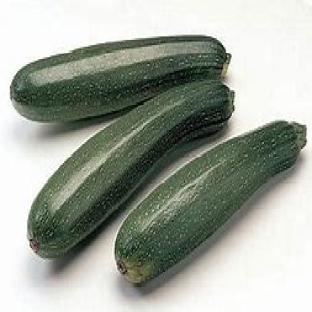Zucchini: (29, 80, 233, 258), (115, 122, 305, 282), (12, 35, 230, 121)
